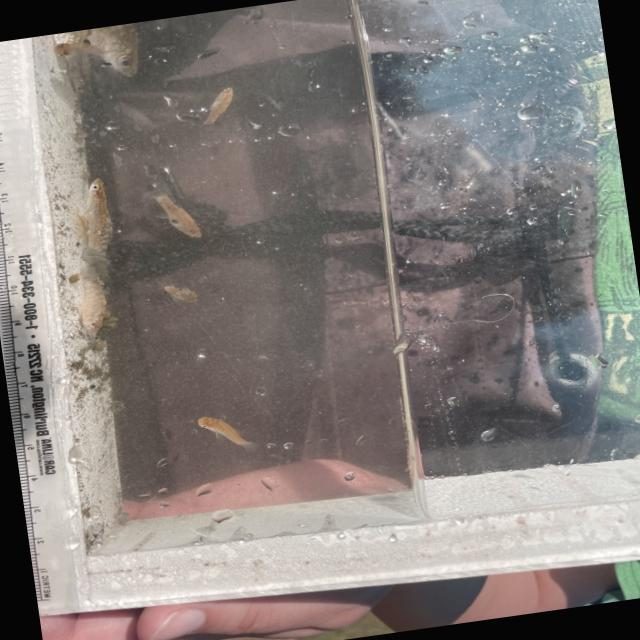Sivrisinek Baligi: (72, 22, 148, 82), (74, 178, 118, 260), (64, 270, 116, 336), (189, 406, 255, 456), (150, 184, 203, 242), (189, 83, 244, 128)
